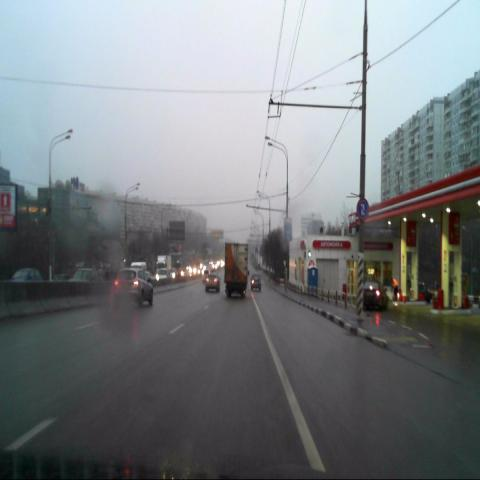3_30: (356, 198, 369, 220)
